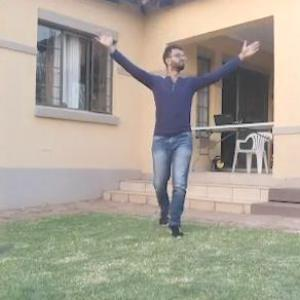takeoff: (77, 21, 266, 227)
